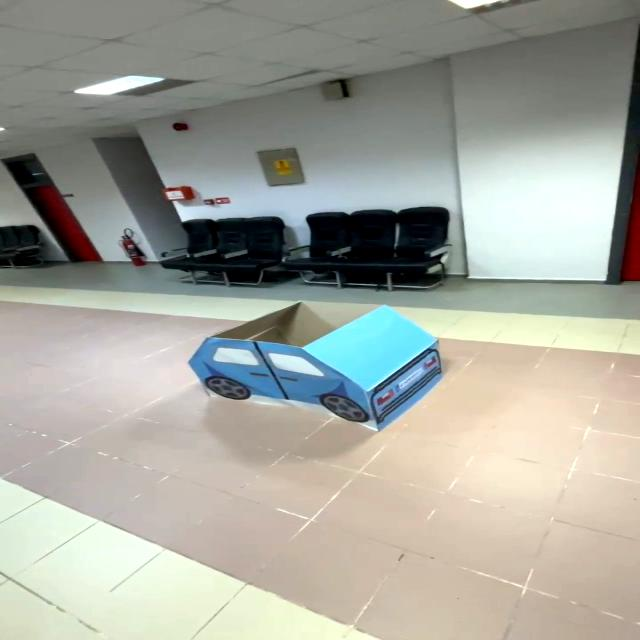blue_car: (139, 290, 489, 457)
